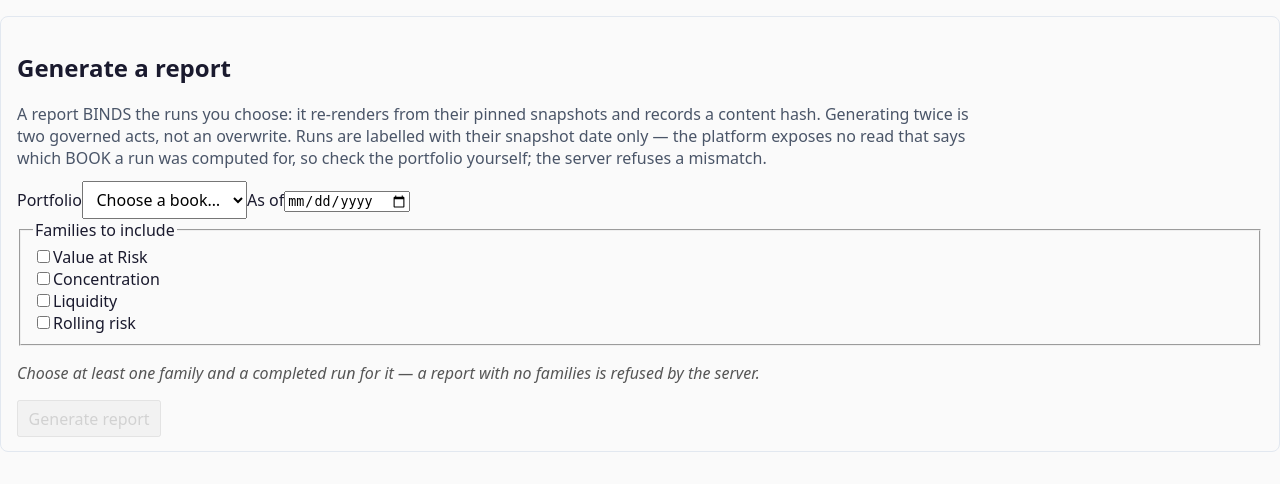
Test: GenerateReport — the ratified proof list › PROOF 1 (rolling_risk): the family unreachable before this slice is now listable
Click the checkbox labelled "Rolling risk": point(44, 323) [37,316,50,329]
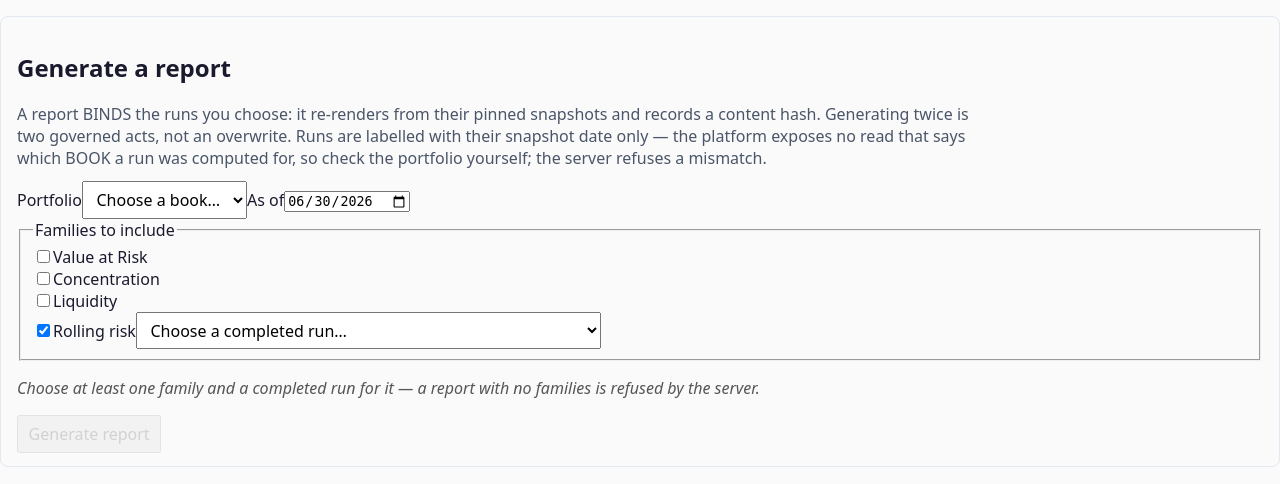
Result: the dropdown named "Rolling risk run" is shown at [136,312,601,349]
